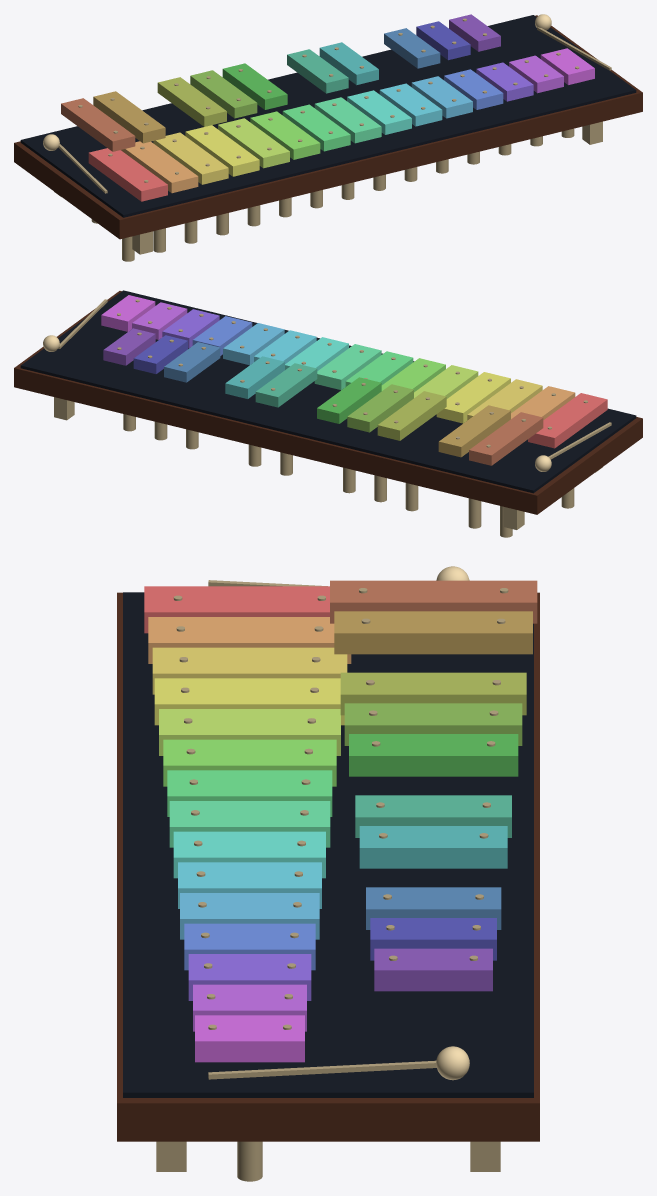
3 views of the same model, one above another, from view 1: azimuth 30°, elevation 25°; view 2: azimuth 150°, elevation 25°; view 3: azimuth 270°, elevation 25° (orthographic). The views are drawn at different scales.
Size of the model in its own units: 3.02 by 0.5675 by 1.06.
